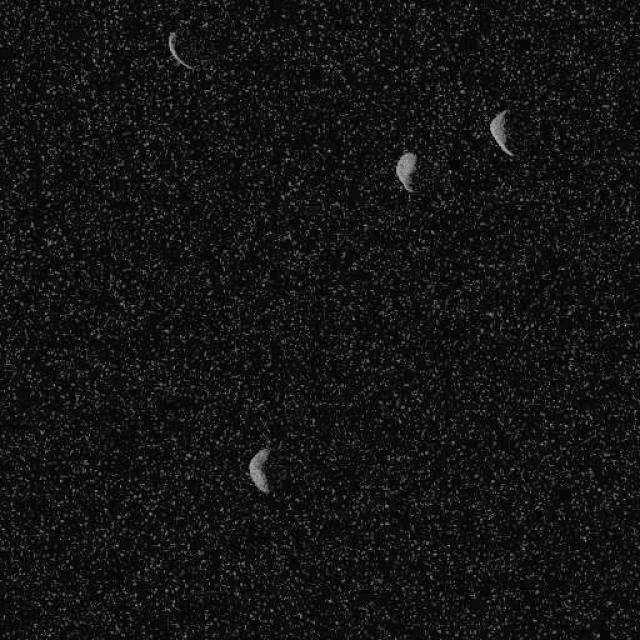D2: (487, 108, 515, 158), (248, 446, 272, 495), (166, 30, 195, 70), (394, 150, 420, 194)
